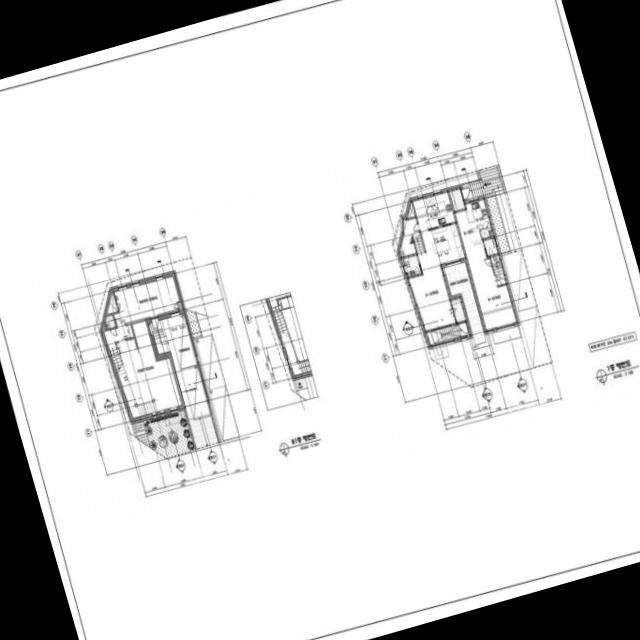background: (0, 0, 640, 640)
space_front: (448, 188, 464, 210)
space_kitchen: (420, 223, 464, 266), (412, 191, 454, 232), (464, 199, 491, 240)
space_living_room: (454, 209, 515, 329), (408, 252, 455, 330)
space_other: (146, 310, 210, 419), (114, 320, 182, 419), (441, 259, 485, 338), (113, 275, 179, 325), (399, 217, 418, 256), (450, 298, 465, 322), (106, 291, 117, 313), (407, 201, 414, 217), (411, 231, 419, 241), (409, 233, 414, 243), (177, 301, 182, 309), (489, 231, 492, 235)
space_staircase: (426, 322, 469, 344), (103, 328, 122, 371), (490, 254, 505, 285), (413, 234, 424, 254)
space_toilet: (401, 254, 420, 276), (483, 237, 497, 255), (102, 314, 115, 329)
